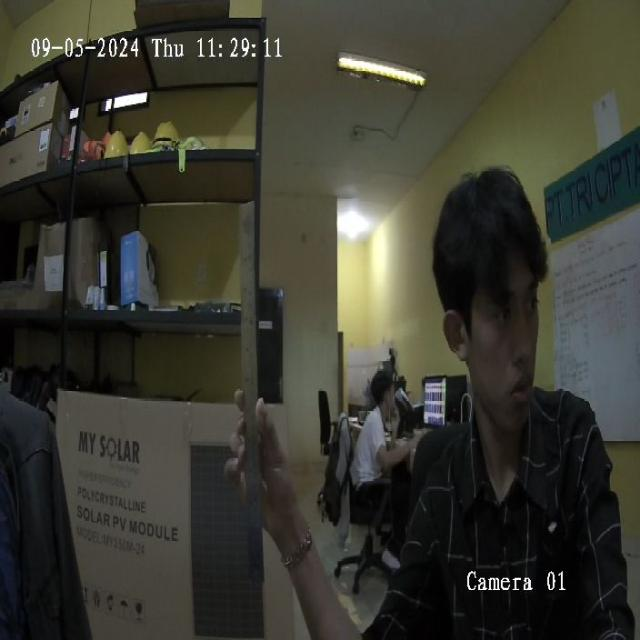Ruler: (239, 202, 263, 582)
